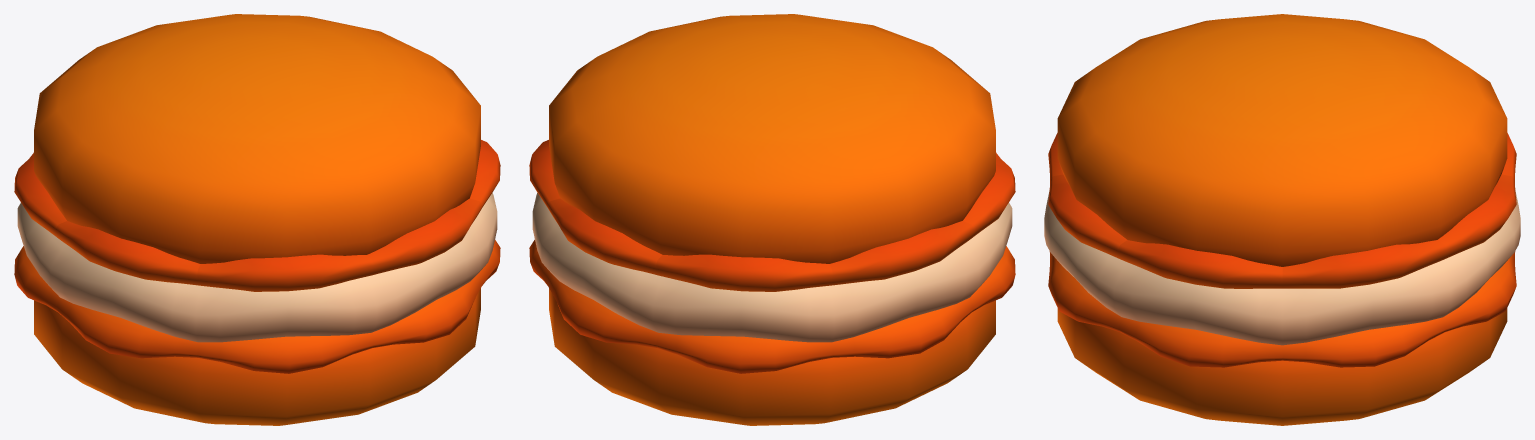
File: Macaron_V1_05.fbx
3 renders of one model, left to right at view 1: azimuth 30°, elevation 25°; view 2: azimuth 150°, elevation 25°; view 3: azimuth 270°, elevation 25°, orthographic.
Parts seen in each view (by area): view 1: Macaron_V1_05; view 2: Macaron_V1_05; view 3: Macaron_V1_05.
Boxes of the visible parts, left/top/right/bottom form: Macaron_V1_05: left=14, top=14, right=500, bottom=425; Macaron_V1_05: left=529, top=14, right=1015, bottom=425; Macaron_V1_05: left=1044, top=14, right=1520, bottom=425.
Bounding box in the file's own units: 27.03 × 19.94 × 27.03.
